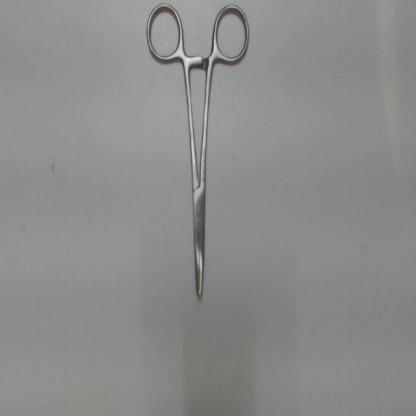Crile Artery Forceps: (144, 2, 254, 305)
